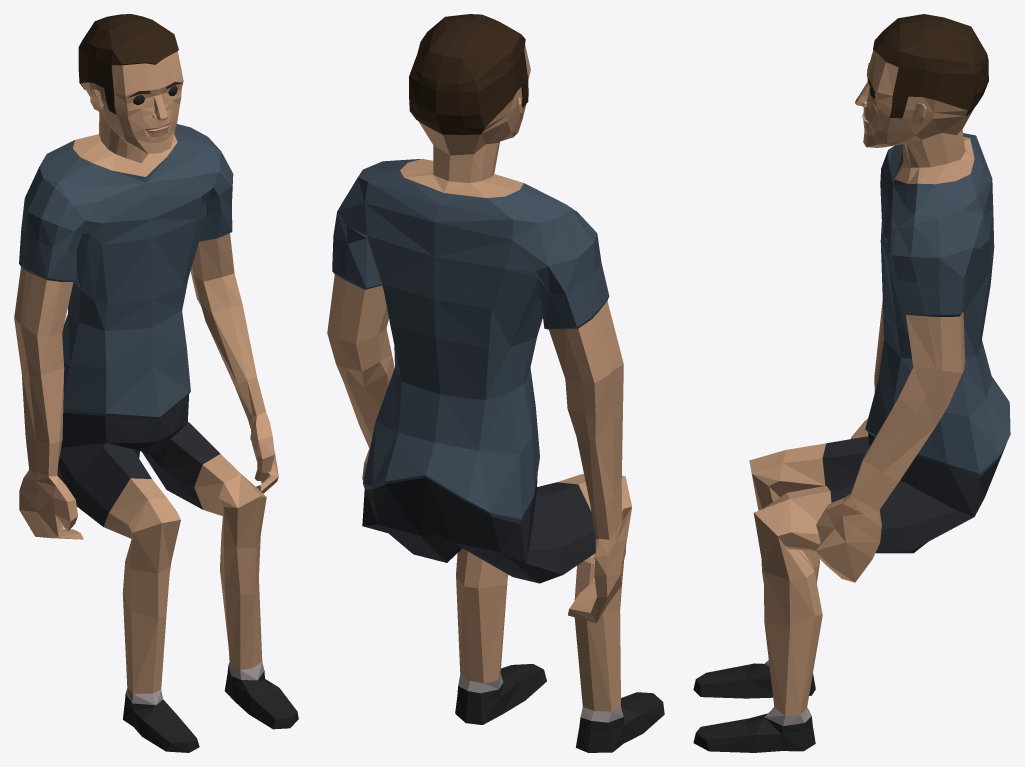
Rendered from cg_man_0.glb.
3 renders of one model, left to right at view 1: azimuth 30°, elevation 25°; view 2: azimuth 150°, elevation 25°; view 3: azimuth 270°, elevation 25°, orthographic. The views are drawn at different scales.
Size of the model in its own units: 1.47 by 4.01 by 1.66.
